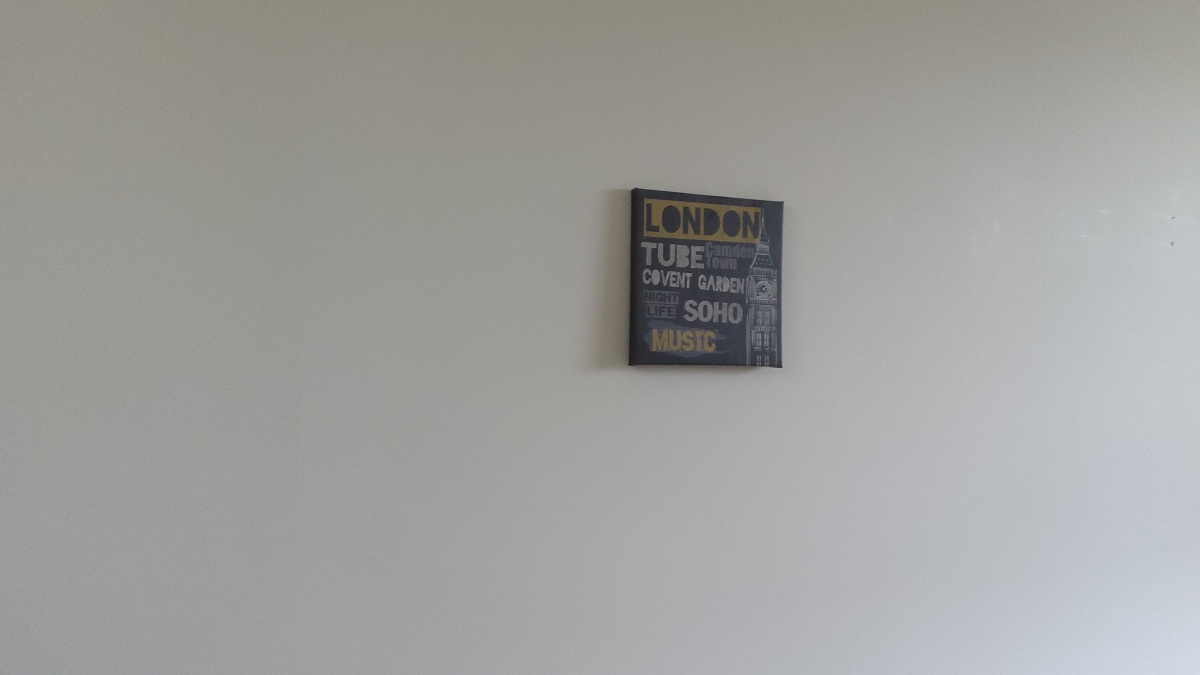poster: (620, 182, 791, 382)
